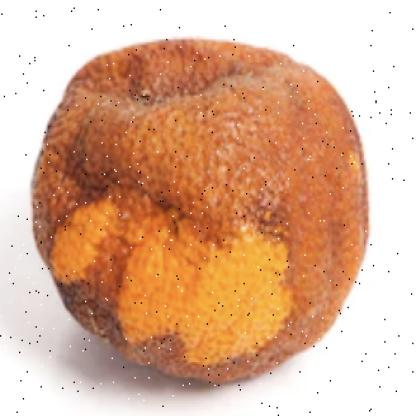rotten: (27, 38, 368, 381)
